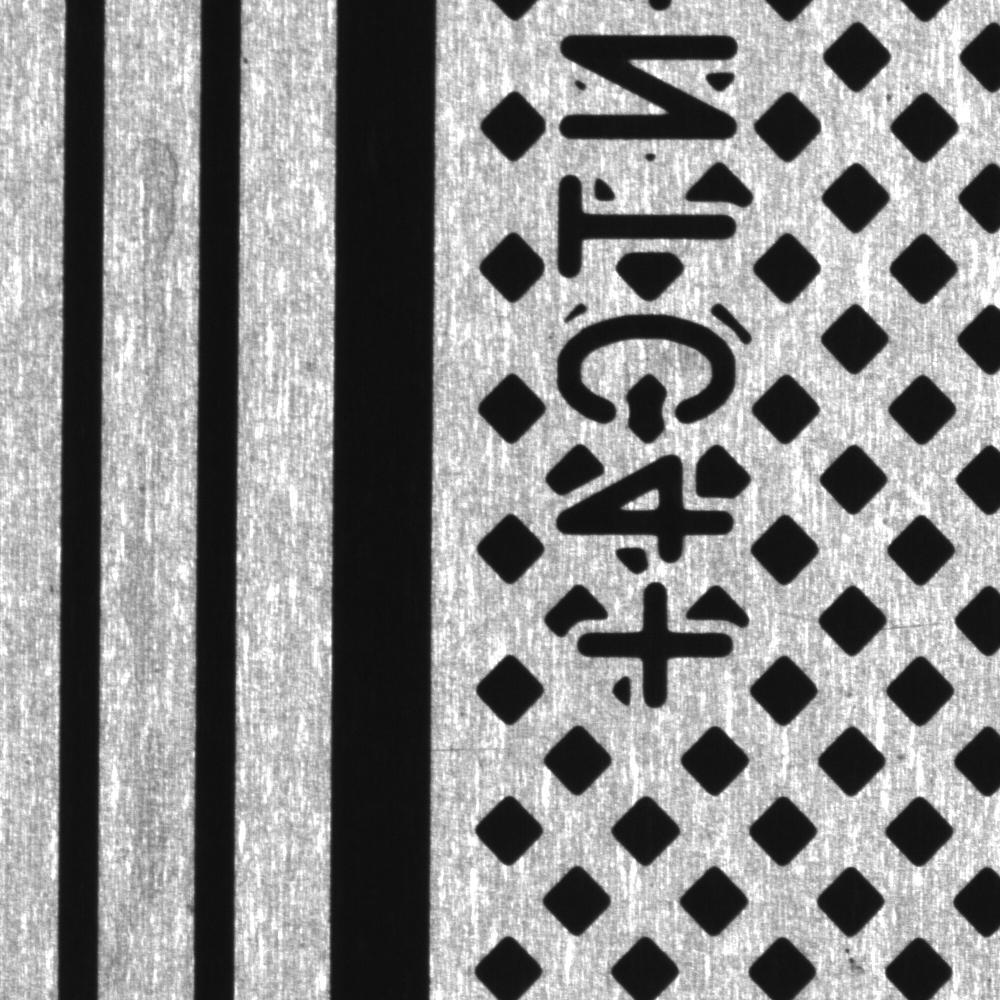Discolor: (128, 126, 184, 312)
Etching: (837, 940, 873, 983), (893, 743, 912, 769)
Pinhole: (241, 49, 261, 73)
Scar: (433, 738, 519, 763), (884, 609, 948, 638)
